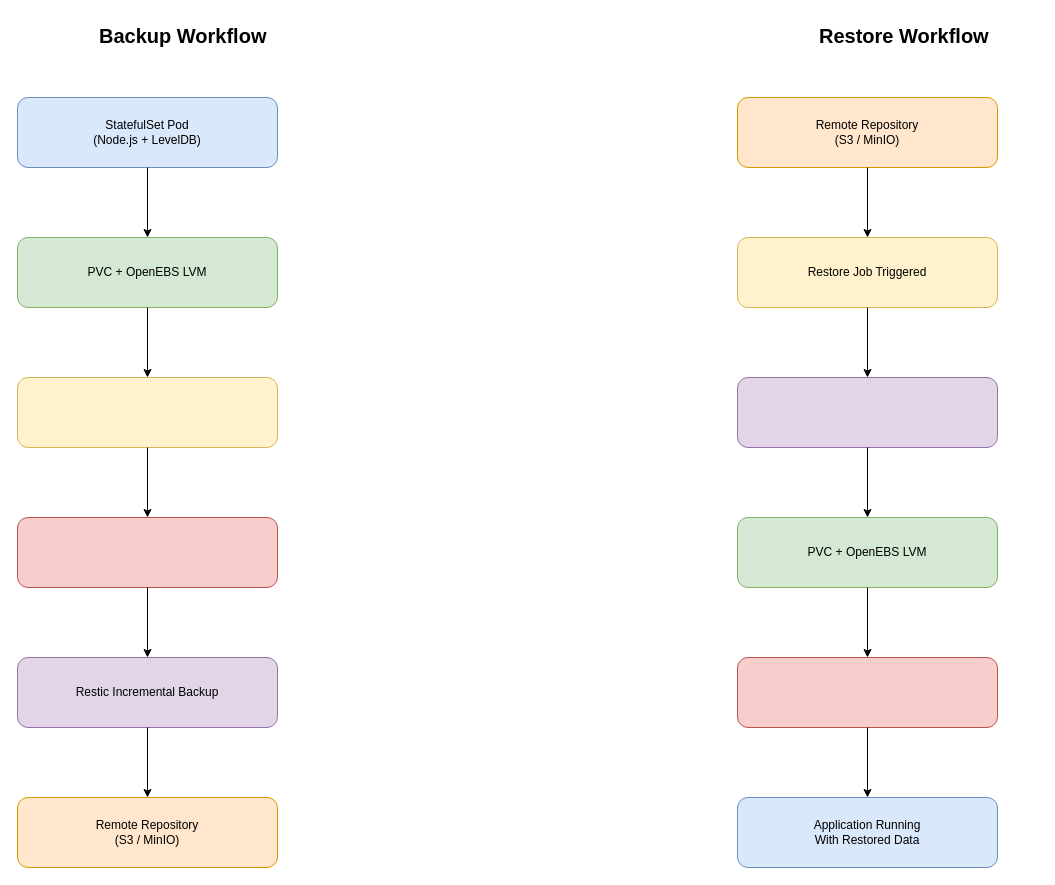
Image size: 1055x885. Some labels were removed from this diagram. Each missing label, with the centre of its shape:
"Create LVM Snapshot" belongs at point (147, 552).
"Kubernetes CronJob" belongs at point (147, 412).
"Restart StatefulSet" belongs at point (867, 692).
"Restic Restore To PVC" belongs at point (867, 412).
